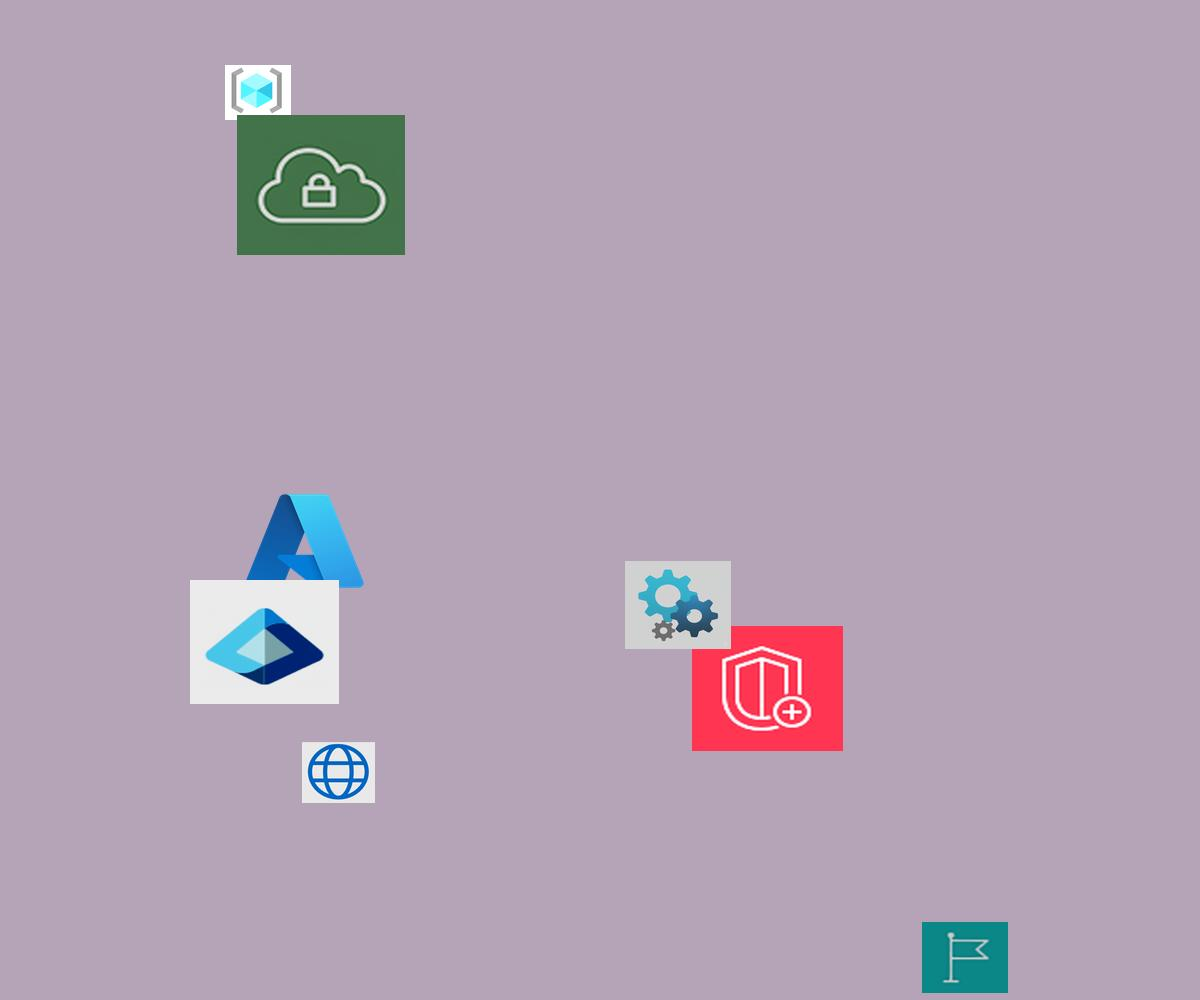AWS-Private_vpc: (237, 115, 405, 255)
AWS-Region: (922, 922, 1008, 993)
AWS-Shield: (692, 626, 843, 751)
Azure_api: (625, 561, 731, 649)
Azure_http: (302, 742, 375, 803)
Azure_microsoft_entra: (190, 580, 339, 704)
Azure_resource_group: (225, 65, 291, 120)
Azure_services: (240, 487, 369, 595)
